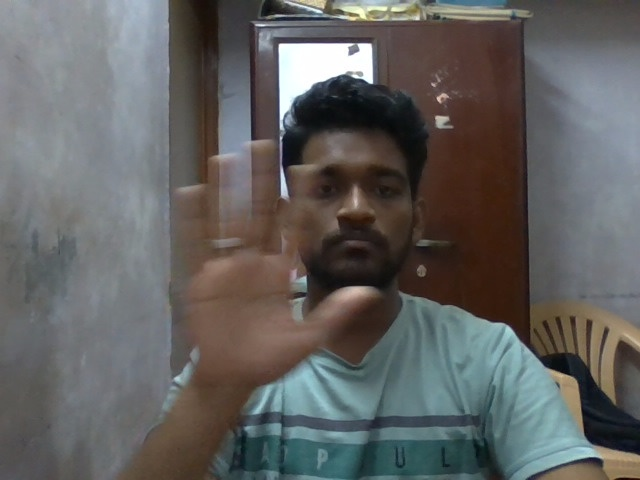Hello: (159, 133, 383, 388)
